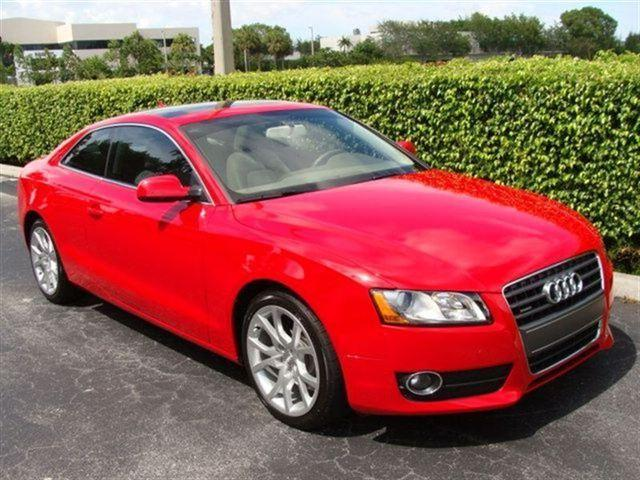Audi: (537, 265, 591, 311)
